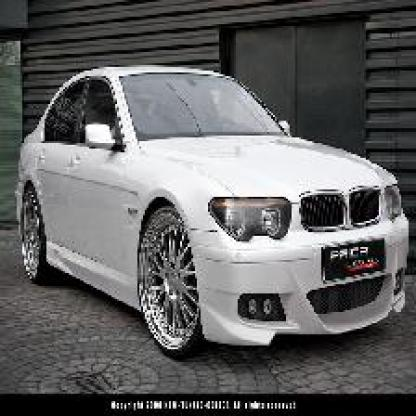not_emergency: (8, 54, 414, 366)
